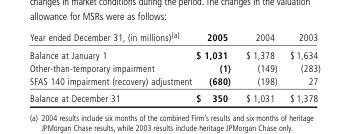table: (28, 29, 319, 103)
table column: (28, 29, 193, 103), (237, 29, 282, 103), (193, 29, 237, 103), (282, 29, 319, 103)
table column header: (28, 29, 319, 45)
table row: (28, 29, 319, 45), (28, 45, 319, 61), (28, 74, 319, 89), (28, 89, 319, 103), (28, 61, 319, 74)
